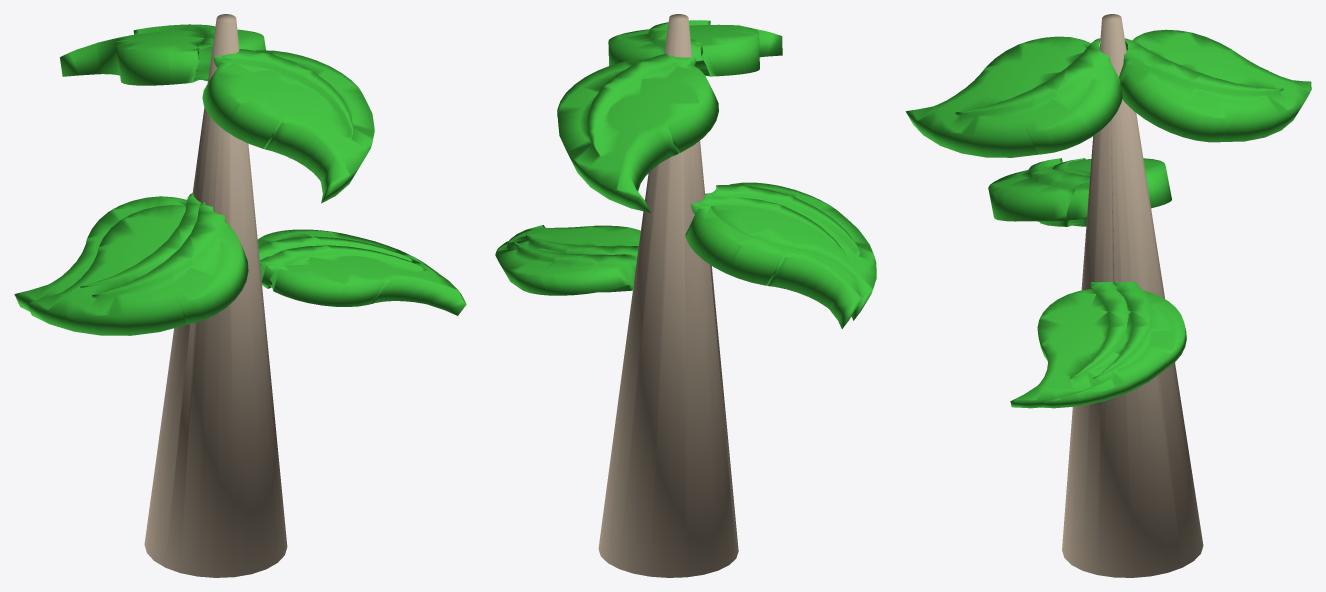
The model's file is level4.glb.
3 renders of one model, left to right at view 1: azimuth 30°, elevation 25°; view 2: azimuth 150°, elevation 25°; view 3: azimuth 270°, elevation 25°, orthographic.
Parts seen in each view (by area): view 1: obj_0.002, obj_0.003, obj_0.004, obj_0.005, obj_0.010; view 2: obj_0.002, obj_0.005, obj_0.010, obj_0.003, obj_0.004; view 3: obj_0.002, obj_0.004, obj_0.005, obj_0.003, obj_0.010.
Part boxes in pixels (x1=…): obj_0.002: x1=144, y1=14, x2=287, y2=577; obj_0.003: x1=26, y1=202, x2=466, y2=335; obj_0.004: x1=202, y1=49, x2=374, y2=203; obj_0.005: x1=60, y1=24, x2=265, y2=85; obj_0.010: x1=14, y1=193, x2=437, y2=311; obj_0.002: x1=598, y1=14, x2=738, y2=577; obj_0.005: x1=557, y1=53, x2=718, y2=212; obj_0.010: x1=495, y1=193, x2=861, y2=328; obj_0.003: x1=506, y1=182, x2=876, y2=320; obj_0.004: x1=608, y1=20, x2=782, y2=76; obj_0.002: x1=1062, y1=14, x2=1203, y2=577; obj_0.004: x1=905, y1=36, x2=1122, y2=157; obj_0.005: x1=1119, y1=29, x2=1311, y2=142; obj_0.003: x1=988, y1=158, x2=1128, y2=408; obj_0.010: x1=1031, y1=158, x2=1186, y2=408.
Size of the model in its own units: 47 by 62.26 by 43.03.
